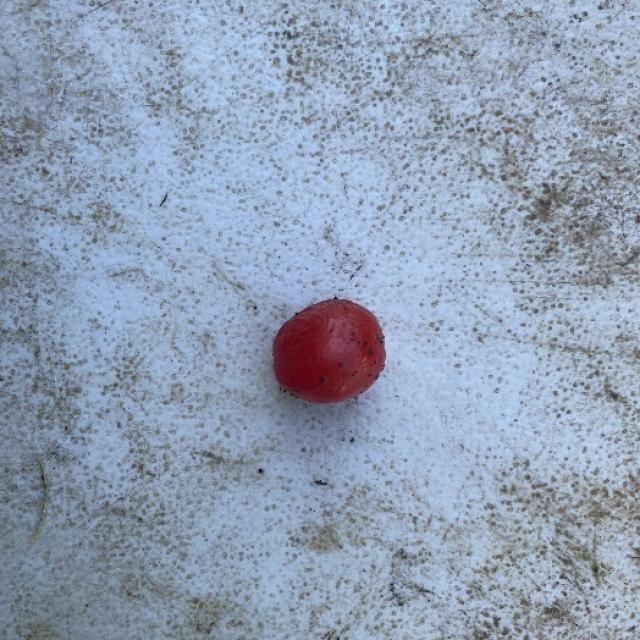organik: (261, 298, 396, 410)
